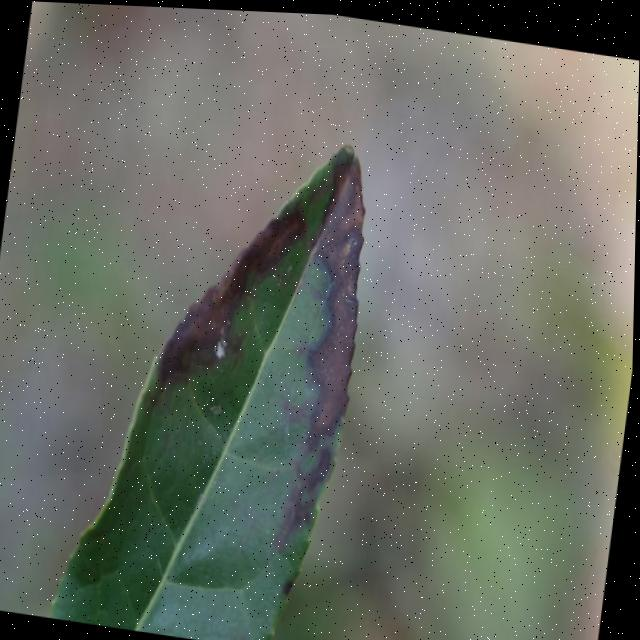Tea cloud leaf blight: (129, 110, 407, 556)
